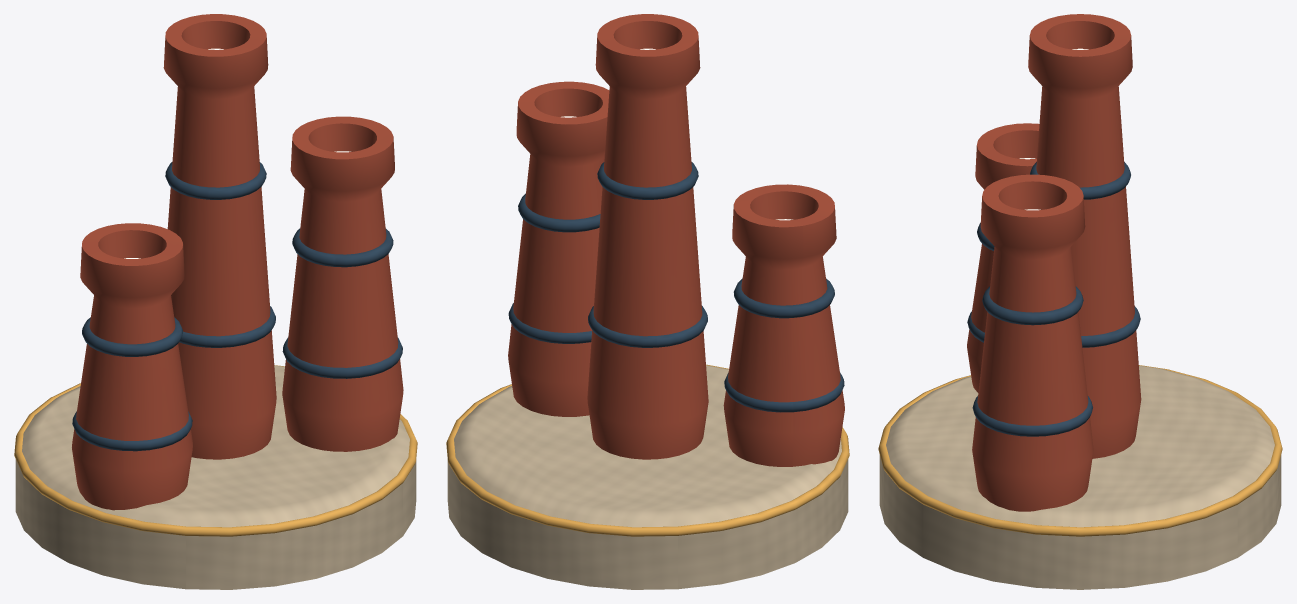
The model's file is volcano_night.glb.
The picture shows the model from 3 angles, left to right: view 1: azimuth 30°, elevation 25°; view 2: azimuth 150°, elevation 25°; view 3: azimuth 270°, elevation 25°; orthographic projection.
Parts seen in each view (by area): view 1: volcano_night_lod0; view 2: volcano_night_lod0; view 3: volcano_night_lod0.
Part boxes in pixels (bbox=[...]): volcano_night_lod0: bbox=[14, 14, 417, 589]; volcano_night_lod0: bbox=[446, 14, 849, 589]; volcano_night_lod0: bbox=[878, 14, 1282, 589].
Size of what is drawn, in the model's own units: 7.65 by 9.8 by 7.65.
5 materials, 5 textured.
